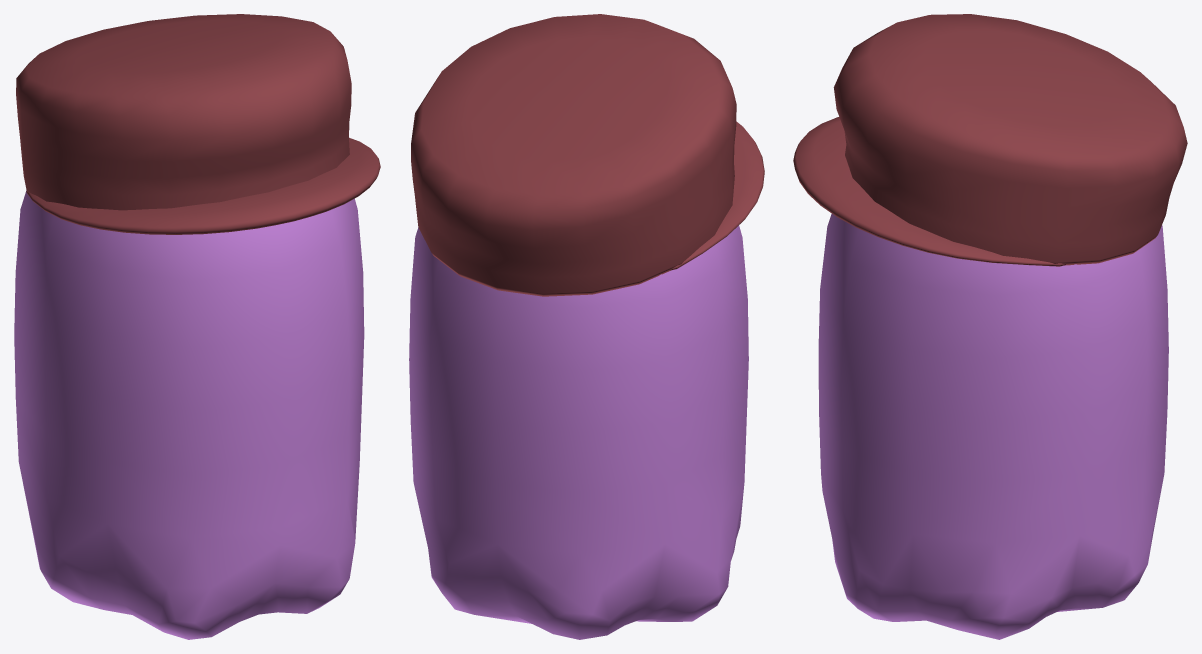
Rendered from Mesh_Ghost_Player.fbx.
3 renders of one model, left to right at view 1: azimuth 30°, elevation 25°; view 2: azimuth 150°, elevation 25°; view 3: azimuth 270°, elevation 25°, orthographic. The views are drawn at different scales.
Parts seen in each view (by area): view 1: Mesh_Ghost, Mesh_Ghost_Hat; view 2: Mesh_Ghost, Mesh_Ghost_Hat; view 3: Mesh_Ghost, Mesh_Ghost_Hat.
Part boxes in pixels (x1,y1,x2,y2): Mesh_Ghost: (14,190,364,639); Mesh_Ghost_Hat: (16,14,380,234); Mesh_Ghost: (409,225,748,639); Mesh_Ghost_Hat: (411,14,764,296); Mesh_Ghost: (818,214,1168,639); Mesh_Ghost_Hat: (793,14,1187,266).
Size of the model in its own units: 101 by 175 by 117.
